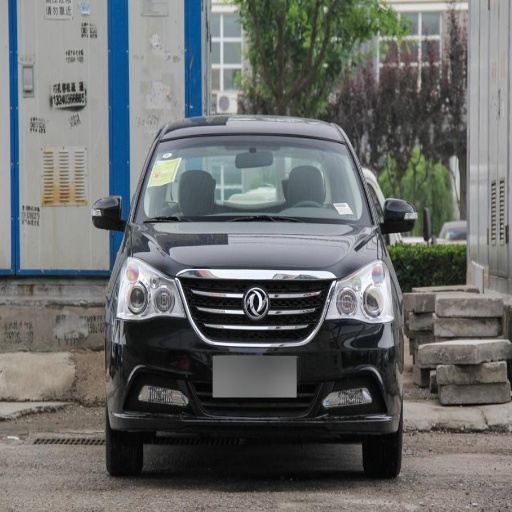front_bumper: (105, 267, 400, 437)
front_right_light: (121, 256, 177, 314)
hood: (135, 223, 379, 278)
